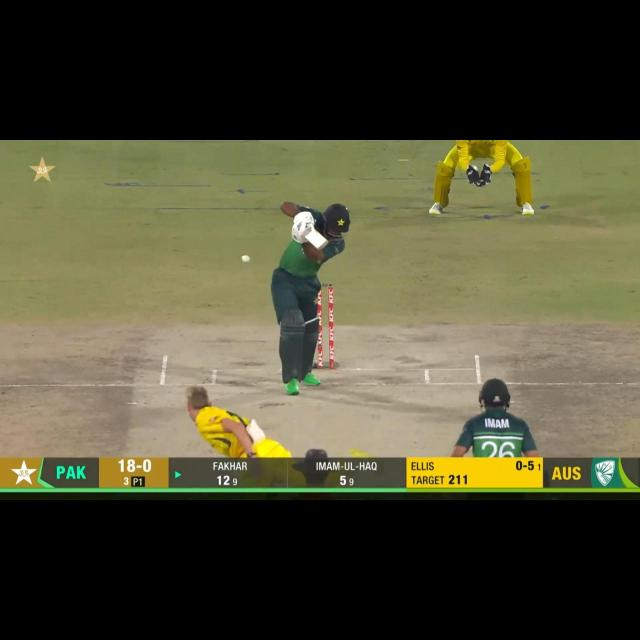bat: (301, 222, 330, 252)
toe: (316, 238, 328, 252)
